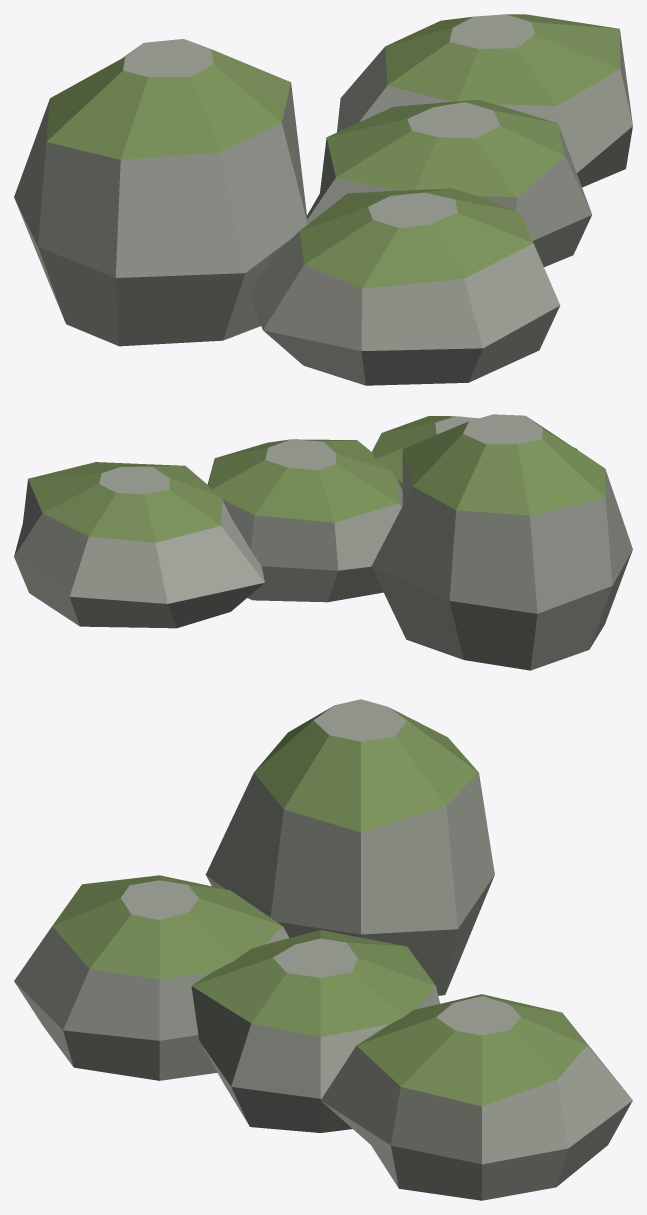
The model's file is detail_moss_rocks.glb.
The picture shows the model from 3 angles, top to bottom: view 1: azimuth 30°, elevation 25°; view 2: azimuth 150°, elevation 25°; view 3: azimuth 270°, elevation 25°; orthographic projection. The views are drawn at different scales.
Visible parts, largest first — view 1: detail_moss_rocks; view 2: detail_moss_rocks; view 3: detail_moss_rocks.
Boxes of the visible parts, bbox=[...] form: detail_moss_rocks: bbox=[14, 14, 632, 385]; detail_moss_rocks: bbox=[14, 414, 632, 670]; detail_moss_rocks: bbox=[14, 699, 632, 1200].
Size of the model in its own units: 3.68 by 1.3 by 3.07.
